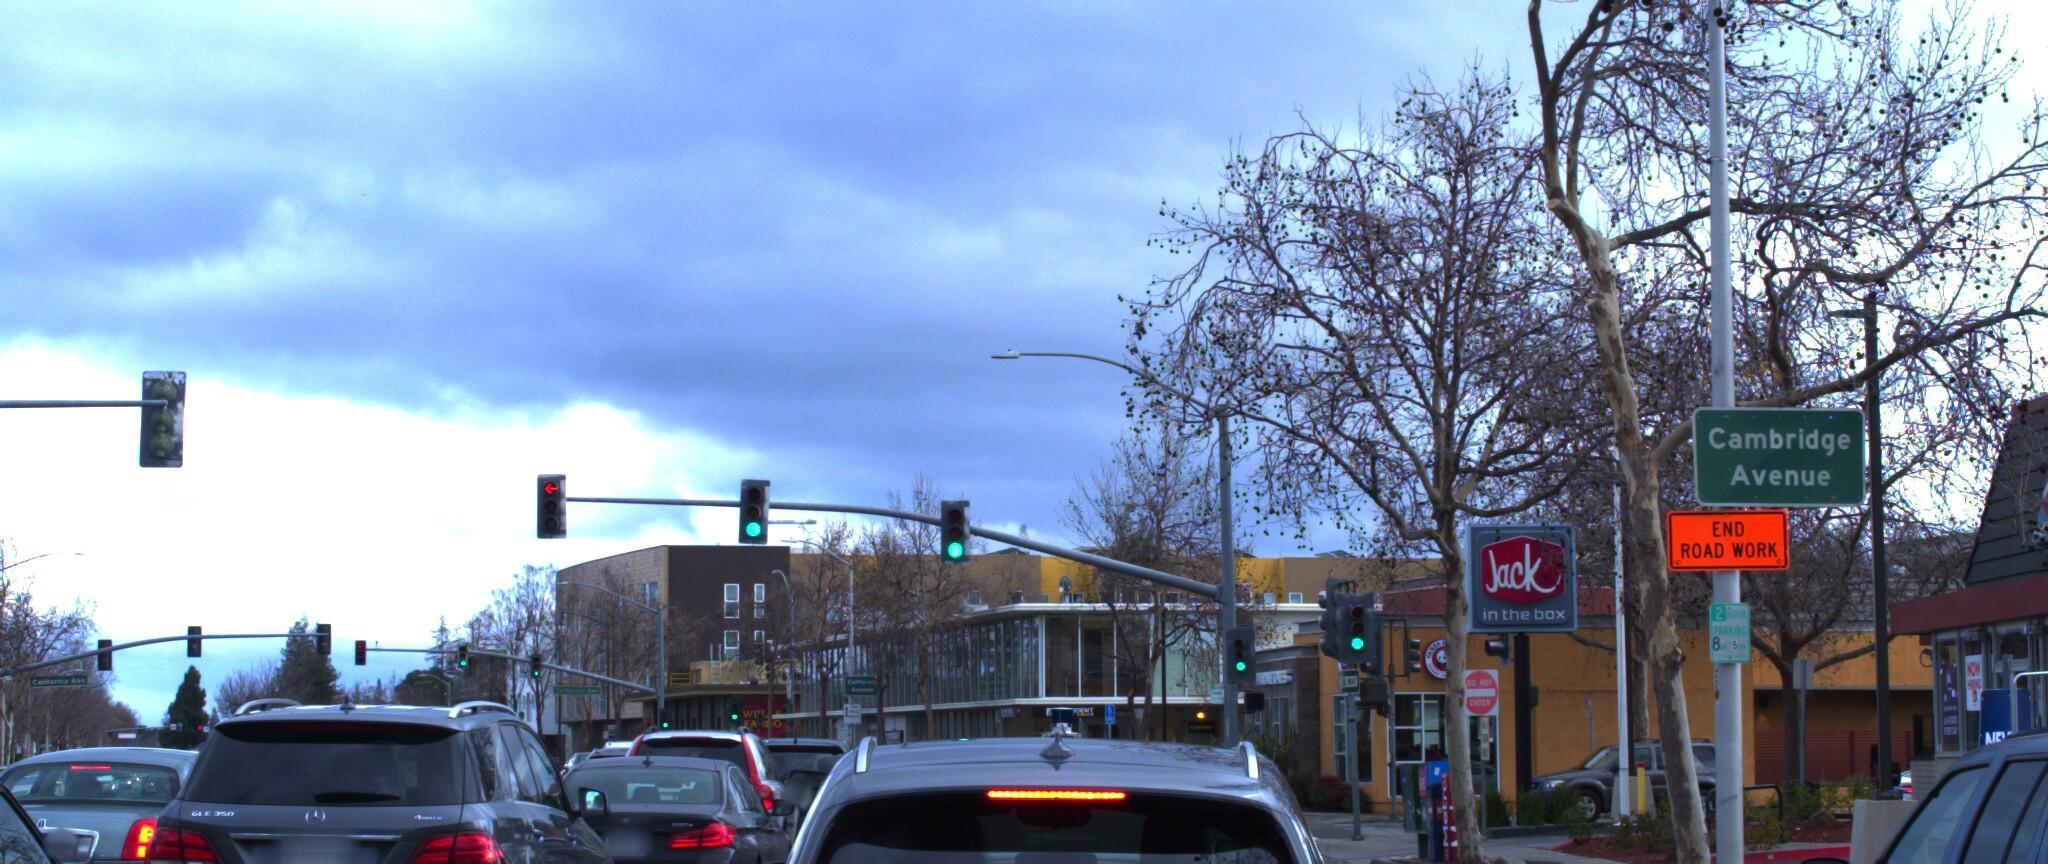bicycle: (1007, 737, 1283, 864)
car: (879, 607, 1226, 864), (704, 757, 1494, 864), (148, 705, 627, 864), (1708, 690, 2048, 864), (0, 741, 327, 864), (0, 726, 261, 864), (613, 715, 822, 861), (530, 756, 803, 864), (741, 741, 884, 864)
